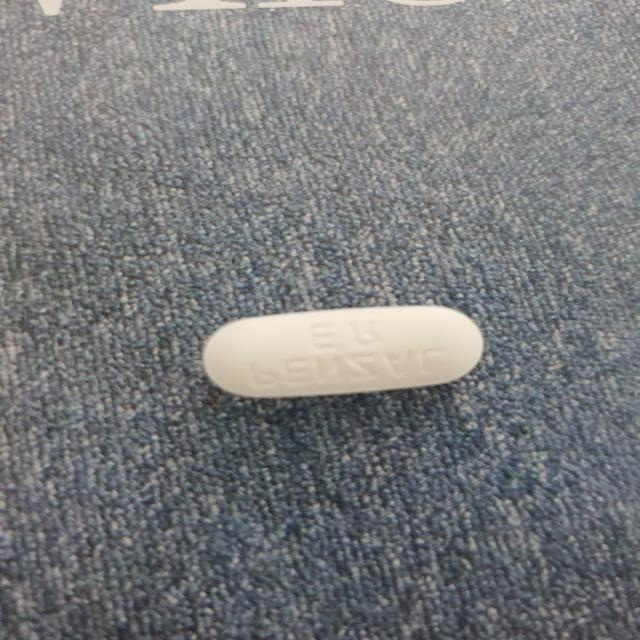pill: (183, 284, 507, 414)
